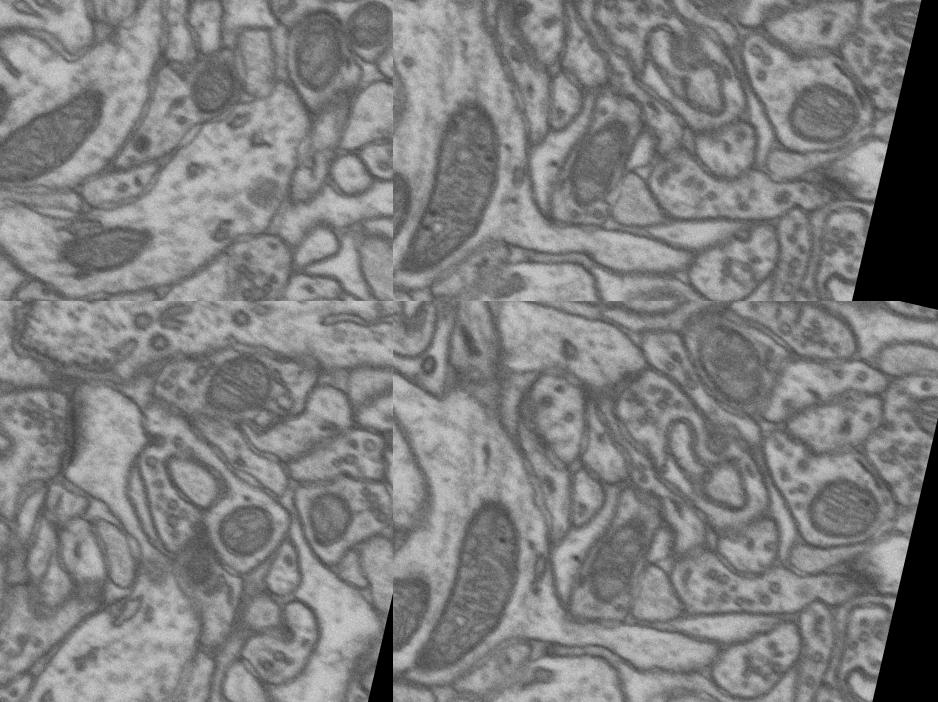mitochondria: (415, 486, 536, 689), (402, 90, 514, 286), (0, 63, 112, 215), (50, 206, 162, 296), (191, 336, 287, 434), (578, 506, 662, 614), (686, 318, 779, 413), (563, 109, 640, 213), (203, 489, 290, 576), (277, 0, 353, 98), (174, 40, 254, 130), (783, 72, 868, 154), (800, 468, 885, 548), (393, 546, 441, 675), (290, 482, 368, 561), (393, 154, 420, 278), (337, 0, 393, 54), (0, 61, 23, 149), (901, 386, 938, 440), (879, 0, 921, 46)
